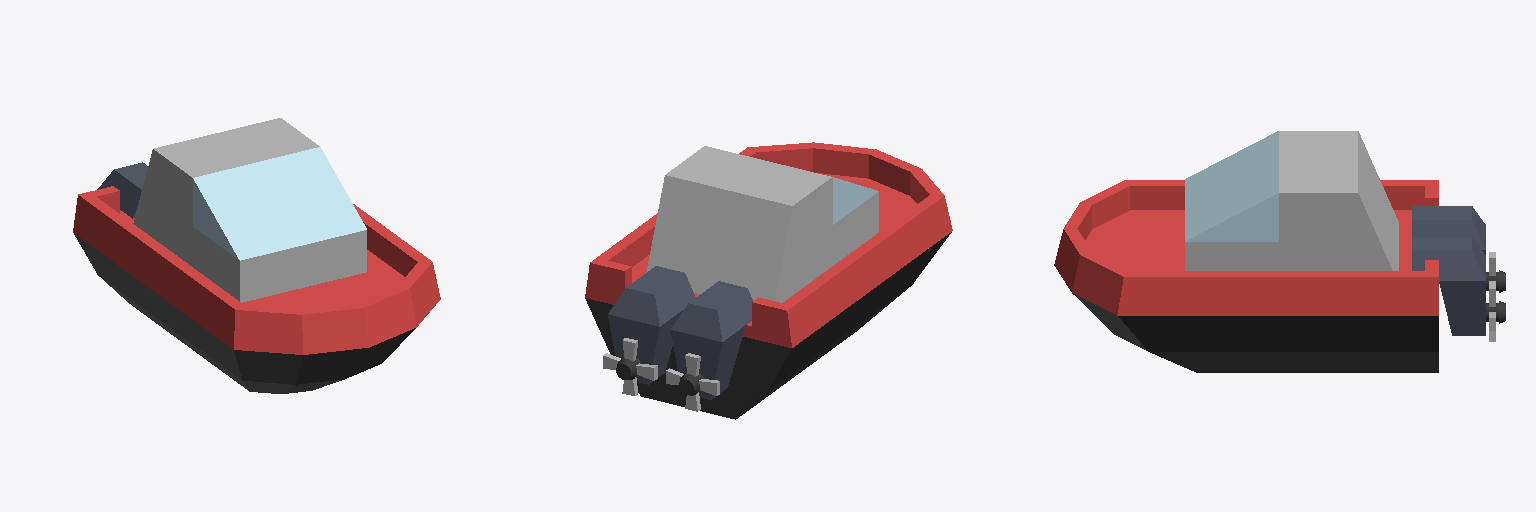
File: watercraftPack_009.obj
The picture shows the model from 3 angles: view 1: azimuth 30°, elevation 25°; view 2: azimuth 150°, elevation 25°; view 3: azimuth 270°, elevation 25°; orthographic projection.
Visible parts, largest first — view 1: Mesh5 Group1 Model, Mesh1 Group2 Group1 Model; view 2: Mesh5 Group1 Model, Mesh1 Group2 Group1 Model, Mesh3 Group4 Group1 Model, Mesh2 Group3 Group1 Model, Mesh4 Group5 Group1 Model; view 3: Mesh5 Group1 Model, Mesh3 Group4 Group1 Model, Mesh1 Group2 Group1 Model.
Part boxes in pixels (left/top/right/bottom): Mesh5 Group1 Model: left=73, top=118, right=440, bottom=393; Mesh1 Group2 Group1 Model: left=97, top=162, right=147, bottom=218; Mesh5 Group1 Model: left=585, top=142, right=952, bottom=419; Mesh1 Group2 Group1 Model: left=670, top=281, right=752, bottom=399; Mesh3 Group4 Group1 Model: left=608, top=266, right=695, bottom=384; Mesh2 Group3 Group1 Model: left=603, top=338, right=657, bottom=395; Mesh4 Group5 Group1 Model: left=666, top=353, right=719, bottom=411; Mesh5 Group1 Model: left=1054, top=131, right=1438, bottom=372; Mesh3 Group4 Group1 Model: left=1412, top=237, right=1505, bottom=335; Mesh1 Group2 Group1 Model: left=1412, top=206, right=1505, bottom=292.
Size of the model in its own units: 1.78 by 1.55 by 3.37.